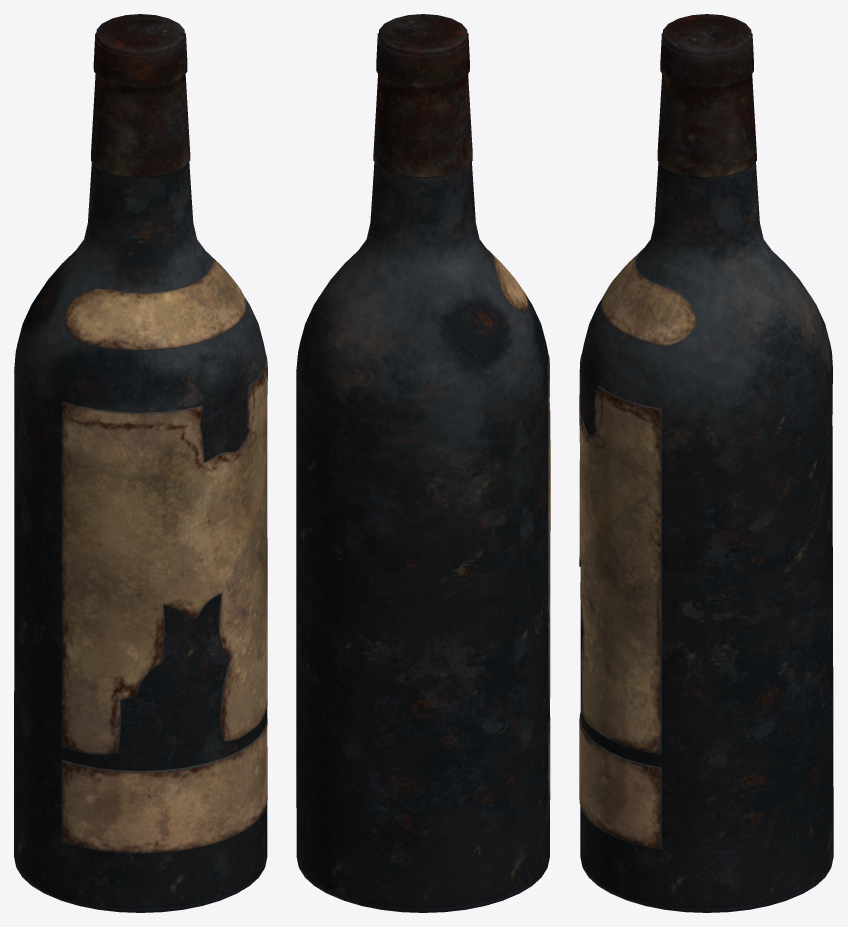
The model's file is Old_Bottle_of_Alcohol_v5.fbx.
3 renders of one model, left to right at view 1: azimuth 30°, elevation 25°; view 2: azimuth 150°, elevation 25°; view 3: azimuth 270°, elevation 25°, orthographic.
Parts seen in each view (by area): view 1: Labels_low, Bottle_low, Cap_low, Tap_low; view 2: Bottle_low, Cap_low, Tap_low, Labels_low; view 3: Bottle_low, Labels_low, Cap_low, Tap_low.
Boxes of the visible parts, x1=… form: Labels_low: x1=61, y1=260, x2=267, y2=853; Bottle_low: x1=14, y1=162, x2=267, y2=912; Cap_low: x1=91, y1=32, x2=190, y2=178; Tap_low: x1=96, y1=14, x2=184, y2=56; Bottle_low: x1=296, y1=162, x2=549, y2=912; Cap_low: x1=373, y1=33, x2=472, y2=178; Tap_low: x1=378, y1=14, x2=467, y2=56; Labels_low: x1=486, y1=248, x2=550, y2=807; Bottle_low: x1=580, y1=162, x2=833, y2=912; Labels_low: x1=579, y1=248, x2=696, y2=849; Cap_low: x1=657, y1=33, x2=756, y2=178; Tap_low: x1=662, y1=14, x2=751, y2=56.
Bounding box in the file's own units: 8.06 × 29.21 × 8.09.
Materials: 1 (1 with a texture image).
